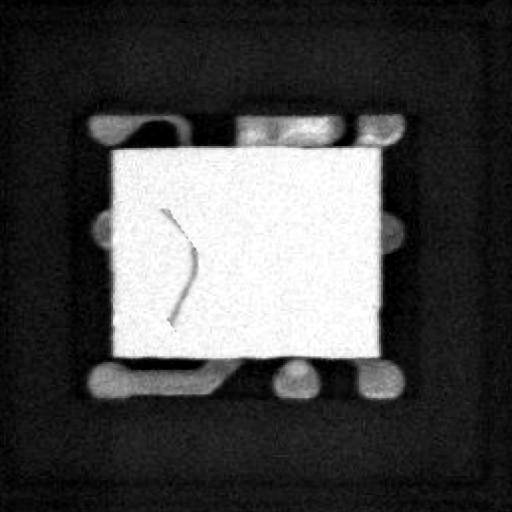DIE_INK: (148, 216, 188, 344)
